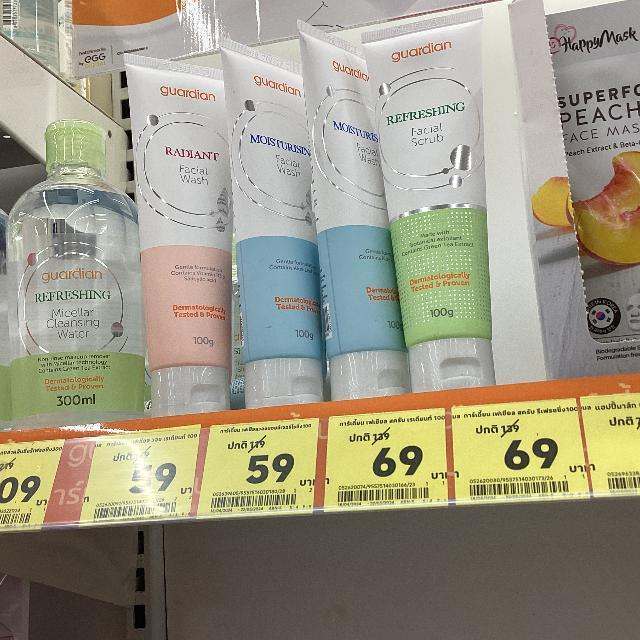Squeeze Tube: (101, 14, 538, 414)
